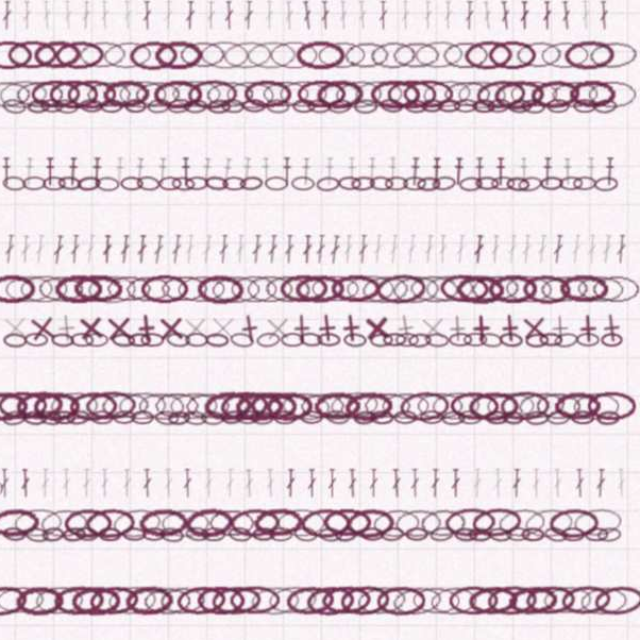chain: (389, 573, 439, 605), (126, 500, 175, 532), (580, 573, 629, 605), (514, 500, 562, 532), (418, 97, 467, 128), (375, 280, 424, 311), (122, 573, 171, 604), (273, 573, 322, 604), (356, 573, 405, 604), (1, 573, 48, 605), (228, 390, 276, 421), (331, 390, 379, 421), (507, 390, 555, 421), (465, 500, 513, 531), (560, 500, 608, 531), (341, 573, 389, 604), (549, 573, 597, 604), (397, 391, 446, 421), (220, 574, 269, 604), (36, 390, 83, 421), (195, 500, 242, 531), (489, 500, 536, 531), (118, 61, 166, 91), (469, 98, 517, 128), (486, 98, 534, 128), (520, 98, 568, 128), (371, 501, 419, 531), (105, 574, 153, 604), (187, 574, 235, 604), (257, 574, 305, 604), (290, 574, 338, 604), (425, 574, 473, 604), (499, 574, 547, 604), (231, 61, 278, 91), (575, 61, 622, 91), (361, 281, 408, 311), (390, 281, 437, 311), (286, 391, 333, 421), (345, 391, 392, 421), (12, 501, 59, 531), (59, 501, 106, 531), (102, 501, 149, 531), (347, 501, 394, 531), (392, 501, 439, 531), (309, 574, 356, 604), (462, 574, 509, 604), (566, 574, 613, 604), (411, 61, 459, 90), (552, 61, 600, 90), (198, 98, 246, 127), (406, 281, 454, 310), (421, 281, 469, 310), (102, 391, 150, 420), (132, 391, 180, 420), (427, 391, 475, 420), (440, 501, 488, 530), (54, 574, 102, 603), (72, 574, 120, 603), (324, 574, 372, 603), (516, 574, 564, 603), (95, 61, 142, 90), (458, 61, 505, 90), (20, 98, 67, 127), (336, 98, 383, 127), (435, 281, 482, 310), (464, 281, 511, 310), (496, 281, 543, 310), (68, 391, 115, 420), (116, 391, 163, 420), (492, 391, 539, 420), (34, 501, 81, 530), (260, 501, 307, 530), (17, 574, 64, 603), (480, 574, 527, 603), (532, 574, 579, 603), (73, 62, 121, 90), (253, 62, 301, 90), (462, 392, 510, 420), (538, 502, 586, 530), (53, 61, 99, 90), (369, 61, 415, 90), (506, 61, 552, 90), (118, 98, 164, 127), (319, 98, 365, 127), (270, 281, 316, 310), (213, 391, 259, 420), (416, 501, 462, 530), (139, 574, 185, 603), (171, 574, 217, 603), (143, 62, 190, 90), (320, 62, 367, 90), (530, 62, 577, 90), (452, 99, 499, 127), (104, 282, 151, 310), (188, 282, 235, 310), (220, 282, 267, 310), (299, 282, 346, 310), (529, 282, 576, 310), (380, 392, 427, 420), (152, 502, 199, 530), (173, 502, 220, 530), (238, 502, 285, 530), (344, 62, 390, 90), (390, 62, 436, 90), (5, 99, 51, 127), (215, 99, 261, 127), (234, 99, 280, 127), (540, 99, 586, 127), (26, 282, 72, 310), (513, 282, 559, 310), (564, 282, 610, 310), (151, 392, 197, 420), (181, 392, 227, 420), (445, 392, 491, 420), (479, 392, 525, 420), (82, 502, 128, 530), (305, 502, 351, 530), (36, 575, 82, 603), (89, 575, 135, 603), (156, 575, 202, 603), (376, 575, 422, 603), (409, 575, 455, 603), (29, 62, 76, 89), (210, 62, 257, 89), (275, 62, 322, 89), (51, 99, 98, 126), (68, 99, 115, 126), (183, 99, 230, 126), (284, 99, 331, 126), (301, 99, 348, 126), (370, 99, 417, 126), (386, 99, 433, 126), (401, 99, 448, 126), (501, 99, 548, 126), (574, 99, 621, 126), (314, 282, 361, 309), (347, 282, 394, 309), (282, 502, 329, 529), (238, 575, 285, 602), (444, 575, 491, 602), (102, 99, 147, 127), (148, 99, 193, 127), (57, 282, 102, 310), (139, 282, 184, 310), (207, 282, 252, 310), (451, 282, 496, 310), (4, 392, 49, 420), (53, 392, 98, 420), (87, 392, 132, 420), (195, 392, 240, 420), (243, 392, 288, 420), (257, 392, 302, 420), (272, 392, 317, 420), (303, 392, 348, 420), (317, 392, 362, 420), (543, 392, 588, 420), (560, 392, 605, 420), (7, 62, 53, 89), (300, 62, 346, 89), (36, 99, 82, 126), (85, 99, 131, 126), (133, 99, 179, 126), (166, 99, 212, 126), (251, 99, 297, 126), (268, 99, 314, 126), (355, 99, 401, 126), (438, 99, 484, 126), (40, 282, 86, 309), (91, 282, 137, 309), (154, 282, 200, 309), (172, 282, 218, 309), (238, 282, 284, 309), (253, 282, 299, 309), (285, 282, 331, 309), (333, 282, 379, 309), (481, 282, 527, 309), (548, 282, 594, 309), (578, 282, 624, 309), (20, 392, 66, 419), (363, 392, 409, 419), (413, 392, 459, 419), (574, 392, 620, 419), (326, 502, 372, 529), (167, 62, 212, 89), (190, 62, 235, 89), (437, 62, 482, 89), (481, 62, 526, 89), (557, 99, 602, 126), (11, 282, 56, 309), (73, 282, 118, 309), (121, 282, 166, 309), (166, 392, 211, 419), (525, 392, 570, 419), (217, 502, 262, 529), (207, 575, 252, 602), (533, 519, 557, 535), (24, 116, 47, 132), (509, 189, 532, 205), (238, 336, 261, 352), (472, 336, 495, 352), (543, 336, 566, 352), (24, 409, 47, 425), (58, 409, 81, 425), (194, 409, 217, 425), (45, 519, 68, 535), (172, 519, 195, 535), (337, 519, 359, 535), (160, 116, 183, 131), (179, 116, 202, 131), (229, 116, 252, 131), (379, 116, 402, 131), (480, 116, 503, 131), (24, 189, 47, 204), (76, 189, 99, 204), (94, 189, 117, 204), (150, 189, 173, 204), (214, 189, 237, 204), (247, 189, 270, 204), (352, 189, 375, 204), (369, 189, 392, 204), (428, 189, 451, 204), (178, 336, 201, 351), (263, 336, 286, 351), (303, 336, 326, 351), (491, 336, 514, 351), (84, 409, 107, 424), (328, 409, 351, 424), (536, 409, 559, 424), (24, 519, 47, 534), (80, 519, 103, 534), (92, 519, 115, 534), (196, 519, 219, 534), (236, 519, 259, 534), (298, 519, 321, 534), (380, 519, 403, 534), (426, 519, 449, 534), (230, 409, 252, 424), (61, 519, 83, 534), (47, 117, 70, 131), (73, 117, 96, 131), (330, 117, 353, 131), (512, 117, 535, 131), (580, 117, 603, 131), (183, 190, 206, 204), (319, 190, 342, 204), (43, 410, 66, 424), (437, 410, 460, 424), (481, 520, 504, 534), (195, 117, 217, 131), (217, 117, 239, 131), (272, 117, 294, 131), (311, 117, 333, 131), (355, 117, 377, 131), (402, 117, 424, 131), (500, 117, 522, 131), (112, 190, 134, 204), (414, 190, 436, 204), (454, 190, 476, 204), (498, 190, 520, 204), (581, 190, 603, 204), (25, 337, 47, 351), (70, 337, 92, 351), (127, 337, 149, 351), (215, 337, 237, 351), (345, 337, 367, 351), (370, 337, 392, 351), (406, 337, 428, 351), (422, 337, 444, 351), (516, 337, 538, 351), (168, 410, 190, 424), (211, 410, 233, 424), (257, 410, 279, 424), (354, 410, 376, 424), (516, 410, 538, 424), (583, 410, 605, 424), (322, 520, 344, 534), (449, 520, 471, 534), (462, 520, 484, 534), (584, 520, 606, 534), (180, 410, 201, 424), (494, 410, 515, 424), (60, 117, 82, 130), (97, 117, 119, 130), (116, 117, 138, 130), (250, 117, 272, 130), (297, 117, 319, 130), (433, 117, 455, 130), (449, 117, 471, 130), (466, 117, 488, 130), (536, 117, 558, 130), (561, 117, 583, 130), (43, 190, 65, 203), (62, 190, 84, 203), (135, 190, 157, 203), (171, 190, 193, 203), (196, 190, 218, 203), (231, 190, 253, 203), (271, 190, 293, 203), (296, 190, 318, 203), (340, 190, 362, 203), (384, 190, 406, 203), (401, 190, 423, 203), (469, 190, 491, 203), (484, 190, 506, 203), (530, 190, 552, 203), (548, 190, 570, 203), (561, 190, 583, 203), (45, 337, 67, 350), (88, 337, 110, 350), (102, 337, 124, 350), (142, 337, 164, 350), (154, 337, 176, 350), (196, 337, 218, 350), (286, 337, 308, 350), (320, 337, 342, 350), (382, 337, 404, 350), (394, 337, 416, 350), (444, 337, 466, 350), (458, 337, 480, 350), (529, 337, 551, 350), (564, 337, 586, 350), (71, 410, 93, 423), (107, 410, 129, 423), (128, 410, 150, 423), (145, 410, 167, 423), (244, 410, 266, 423), (279, 410, 301, 423), (304, 410, 326, 423), (370, 410, 392, 423), (392, 410, 414, 423), (417, 410, 439, 423), (453, 410, 475, 423), (478, 410, 500, 423), (559, 410, 581, 423), (114, 520, 136, 533), (137, 520, 159, 533), (156, 520, 178, 533), (212, 520, 234, 533), (259, 520, 281, 533), (275, 520, 297, 533), (361, 520, 383, 533), (403, 520, 425, 533), (498, 520, 520, 533), (512, 520, 534, 533), (550, 520, 572, 533), (572, 520, 594, 533), (139, 117, 160, 130), (418, 117, 439, 130), (587, 337, 608, 350)
double: (71, 245, 83, 273), (165, 245, 177, 273), (211, 245, 223, 273), (331, 245, 343, 273), (305, 25, 317, 52), (25, 245, 37, 272), (101, 245, 113, 272), (182, 245, 194, 272), (403, 245, 415, 272), (498, 245, 510, 272), (526, 245, 538, 272), (541, 245, 553, 272), (558, 245, 570, 272), (587, 245, 599, 272), (475, 25, 486, 52), (492, 25, 503, 52), (549, 25, 560, 52), (54, 245, 65, 272), (87, 245, 98, 272), (134, 245, 145, 272), (150, 245, 161, 272), (195, 245, 206, 272), (227, 245, 238, 272), (258, 245, 269, 272), (273, 245, 284, 272), (318, 245, 329, 272), (344, 245, 355, 272), (358, 245, 369, 272), (372, 245, 383, 272), (387, 245, 398, 272), (420, 245, 431, 272), (450, 245, 461, 272), (467, 245, 478, 272), (512, 245, 523, 272), (601, 245, 612, 272), (61, 25, 71, 52), (81, 25, 91, 52), (98, 25, 108, 52), (137, 25, 147, 52), (196, 25, 206, 52), (251, 25, 261, 52), (289, 25, 299, 52), (323, 25, 333, 52), (340, 25, 350, 52), (358, 25, 368, 52), (568, 25, 578, 52), (585, 25, 595, 52), (41, 245, 51, 272), (118, 245, 128, 272), (243, 245, 253, 272), (289, 245, 299, 272), (306, 245, 316, 272), (483, 245, 493, 272), (574, 245, 584, 272), (41, 465, 51, 492), (390, 465, 400, 492), (466, 465, 476, 492), (503, 465, 513, 492), (582, 465, 592, 492), (24, 25, 33, 52), (43, 25, 52, 52), (116, 25, 125, 52), (156, 25, 165, 52), (176, 25, 185, 52), (216, 25, 225, 52), (233, 25, 242, 52), (271, 25, 280, 52), (378, 25, 387, 52), (399, 25, 408, 52), (420, 25, 429, 52), (439, 25, 448, 52), (459, 25, 468, 52), (511, 25, 520, 52), (532, 25, 541, 52), (434, 245, 443, 272), (22, 465, 31, 492), (60, 465, 69, 492), (80, 465, 89, 492), (99, 465, 108, 492), (116, 465, 125, 492), (137, 465, 146, 492), (156, 465, 165, 492), (176, 465, 185, 492), (194, 465, 203, 492), (214, 465, 223, 492), (234, 465, 243, 492), (252, 465, 261, 492), (272, 465, 281, 492), (291, 465, 300, 492), (311, 465, 320, 492), (330, 465, 339, 492), (349, 465, 358, 492), (369, 465, 378, 492), (408, 465, 417, 492), (427, 465, 436, 492), (446, 465, 455, 492), (486, 465, 495, 492), (522, 465, 531, 492), (542, 465, 551, 492), (563, 465, 572, 492), (602, 465, 611, 492)
half_double: (229, 172, 242, 200), (147, 172, 159, 199), (210, 172, 222, 199), (248, 172, 260, 199), (44, 172, 55, 199), (85, 172, 96, 199), (129, 172, 140, 199), (169, 172, 180, 199), (304, 172, 315, 199), (366, 172, 377, 199), (407, 172, 418, 199), (427, 172, 438, 199), (448, 172, 459, 199), (590, 172, 601, 199), (23, 172, 33, 199), (64, 172, 74, 199), (108, 172, 118, 199), (192, 172, 202, 199), (267, 172, 277, 199), (287, 172, 297, 199), (327, 172, 337, 199), (348, 172, 358, 199), (386, 172, 396, 199), (468, 172, 478, 199), (488, 172, 498, 199), (510, 172, 520, 199), (532, 172, 542, 199), (551, 172, 561, 199), (573, 172, 583, 199)
noise: (8, 474, 27, 493), (0, 494, 17, 504)
single: (388, 317, 419, 348), (47, 318, 77, 348), (242, 318, 272, 348), (22, 318, 51, 347), (70, 318, 99, 347), (93, 318, 122, 347), (145, 318, 174, 347), (315, 318, 344, 347), (338, 318, 367, 347), (362, 318, 391, 347), (487, 318, 516, 347), (510, 318, 539, 347), (583, 318, 612, 347), (120, 319, 148, 347), (169, 319, 197, 347), (192, 319, 220, 347), (269, 319, 297, 347), (292, 319, 320, 347), (415, 319, 443, 347), (438, 319, 466, 347), (461, 319, 489, 347), (535, 319, 563, 347), (561, 319, 589, 347), (218, 319, 245, 346)
